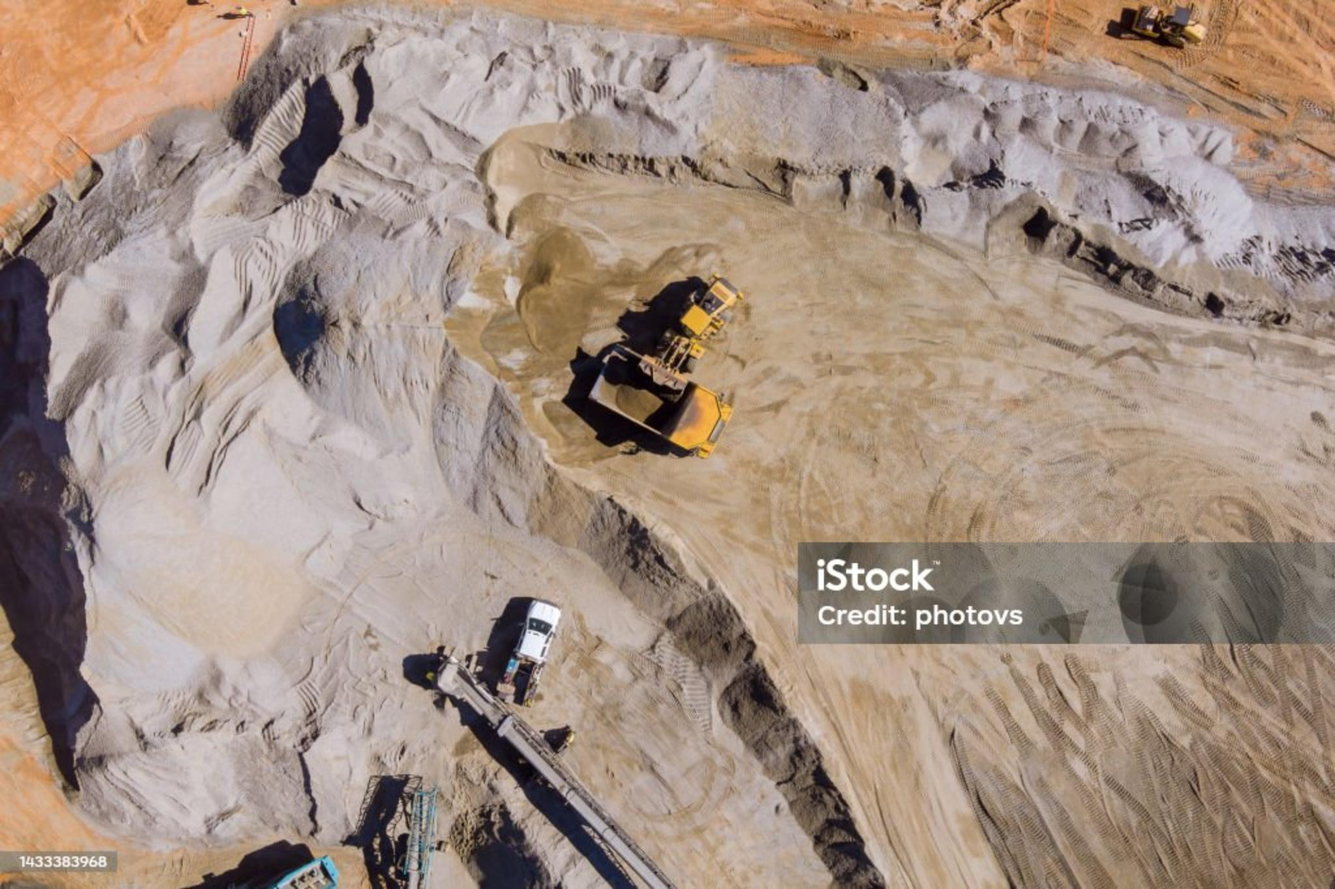excavator: (652, 256, 743, 376)
truck: (598, 380, 739, 465), (502, 606, 565, 708)
